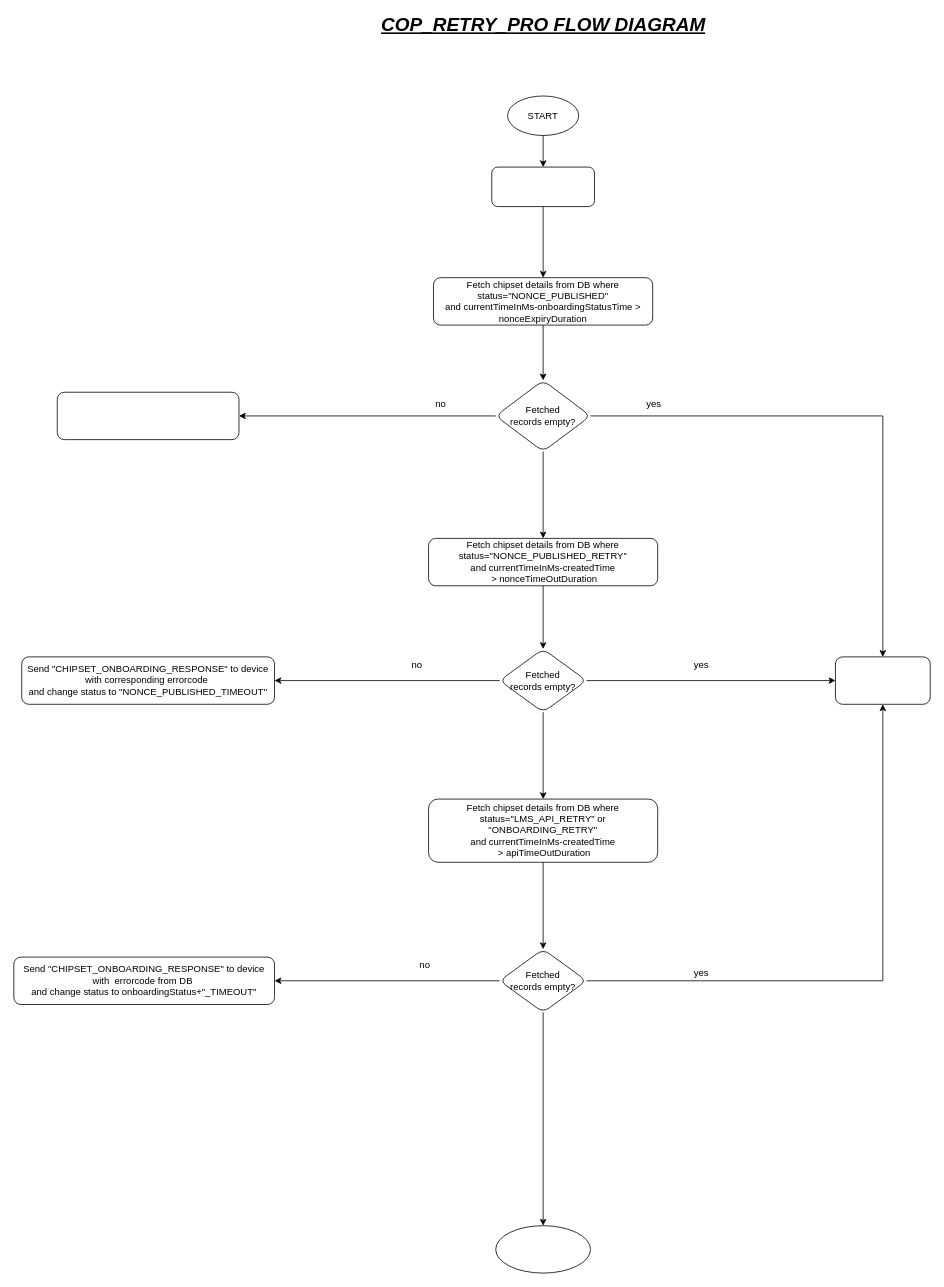
This 944x1287 diagram has some shape labels left out. The centre of each missing label's shape, as x and y in pixels:
Log details: pixel 882 680
Quartz Scheduler scheduled for every 5 mins and process(): pixel 542 186
Send to resilience queue and change status to " NONCE_PUBLISHED_RETRY ": pixel 147 415
STOP: pixel 543 1249
